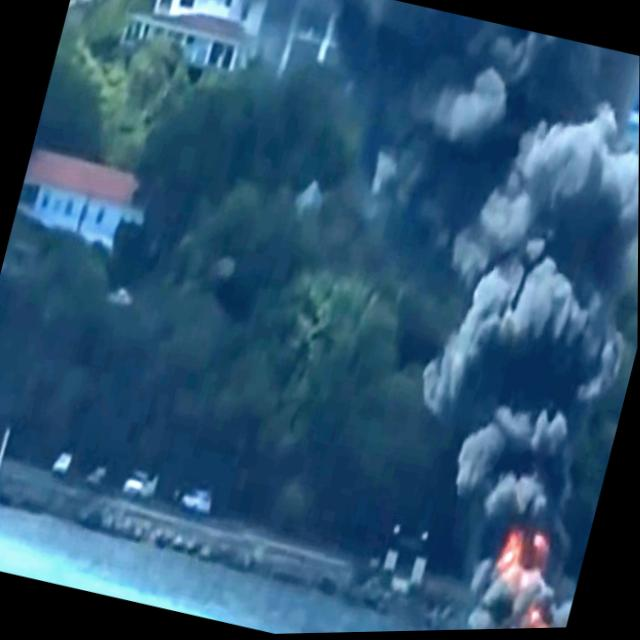smoke: (409, 31, 640, 526)
